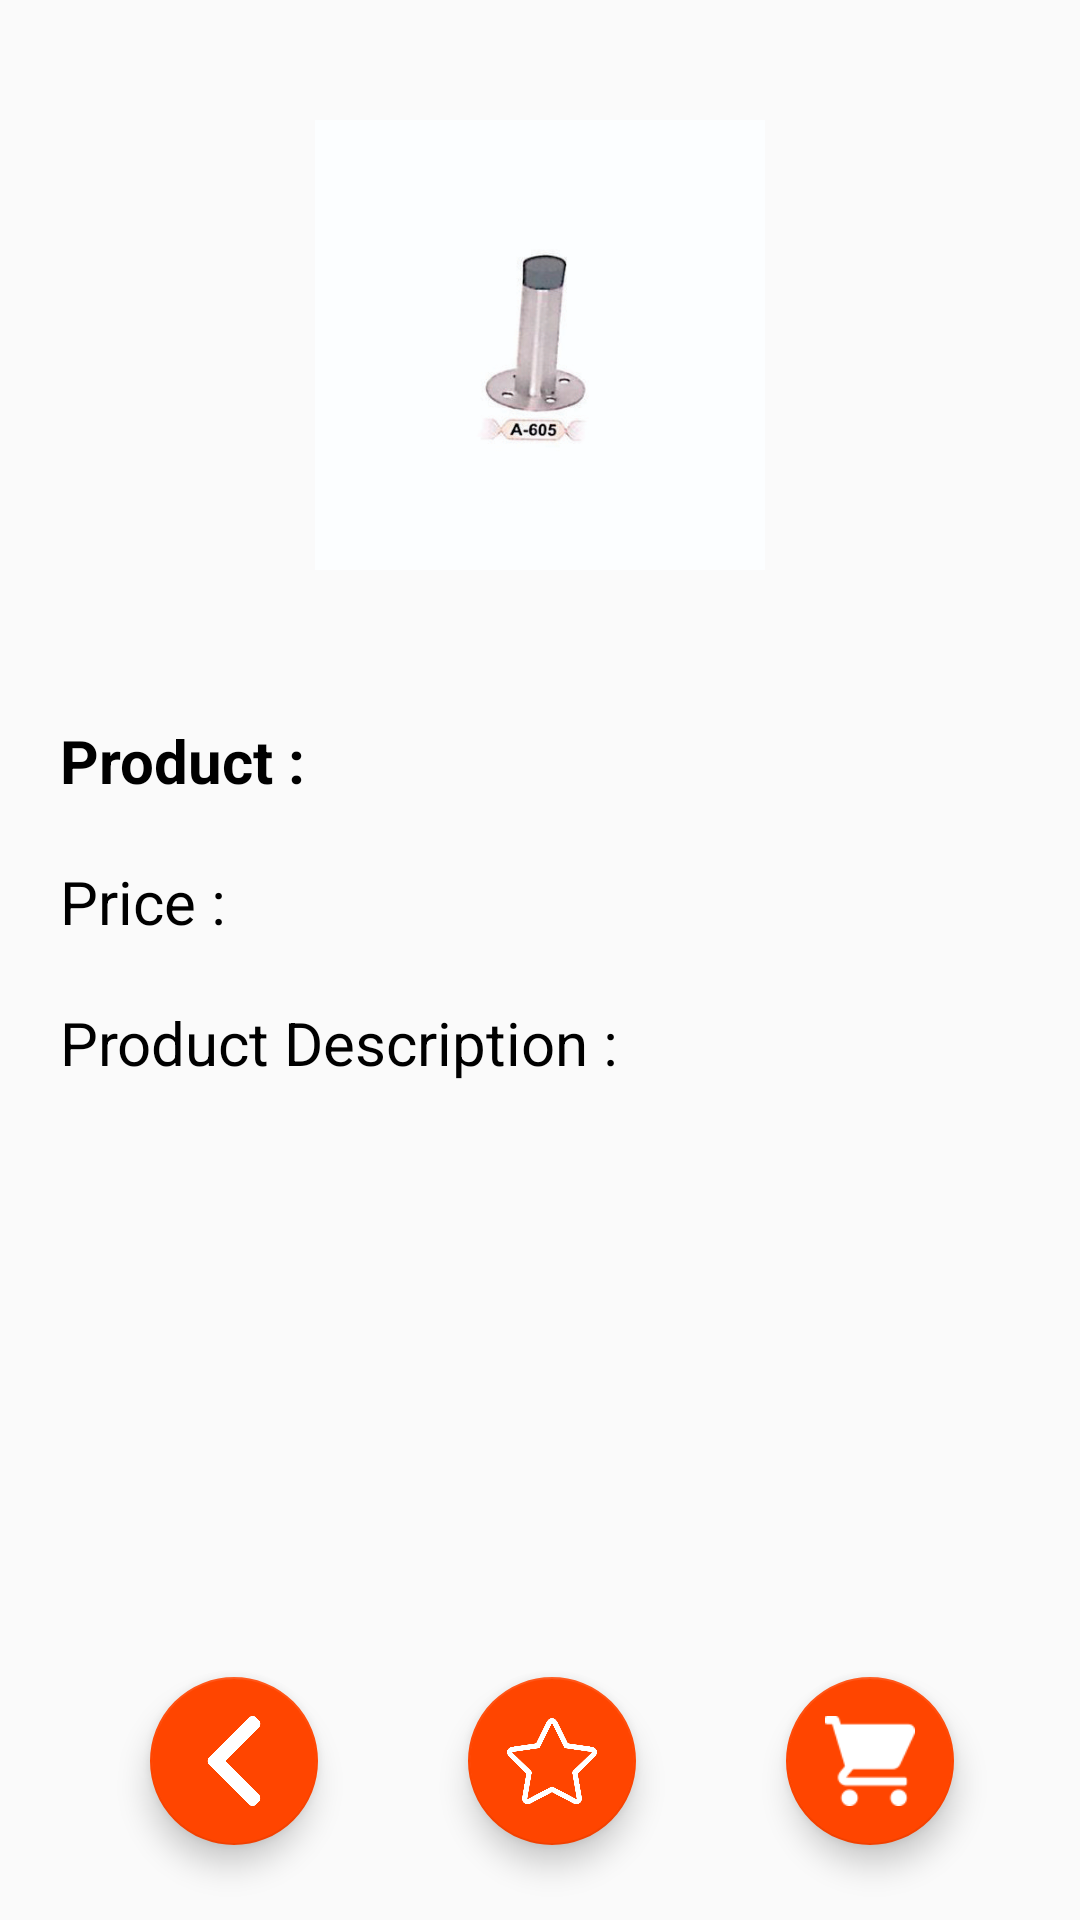

Where icons sit on this 1080×1920 app screen, as (x1, y1, x2, y2):
back: (150, 1677, 318, 1845)
cart: (786, 1677, 954, 1845)
star: (468, 1677, 636, 1845)
